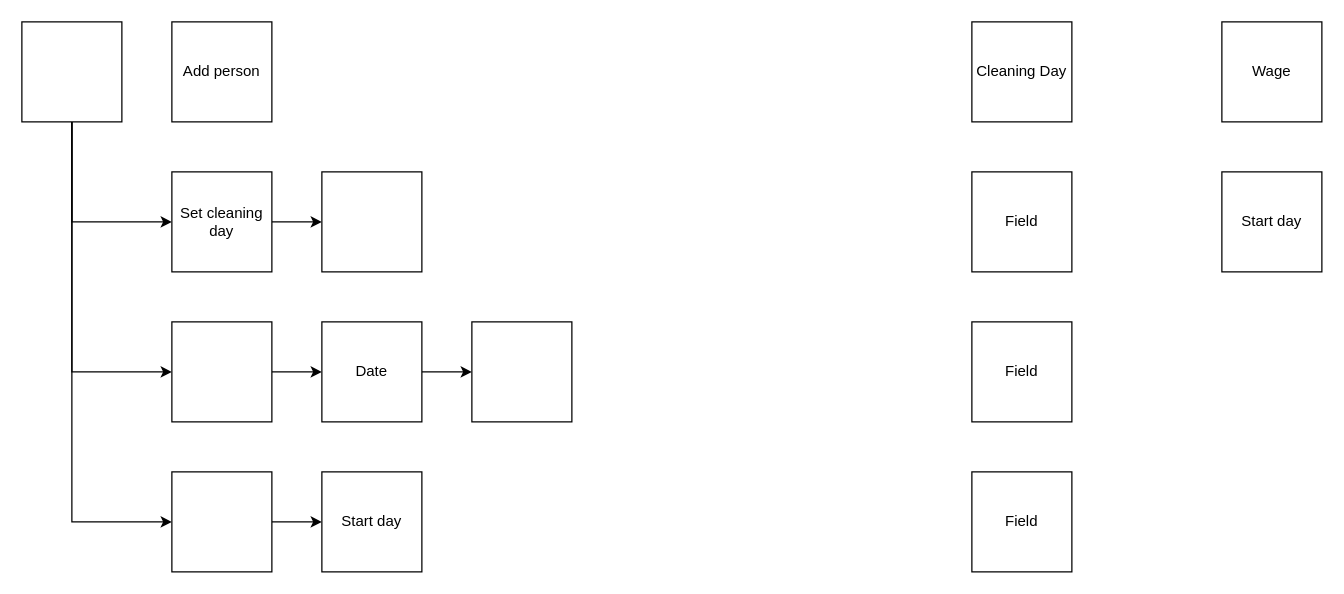
Image size: 1344x594. Some labels were removed from this diagram. Each missing label, with the centre of its shape:
"Add cleaning day" belongs at [221,371].
"Add field" belongs at [371,221].
"Add wage" belongs at [221,521].
"Fields" belongs at [521,371].
"MENU" belongs at [71,71].
